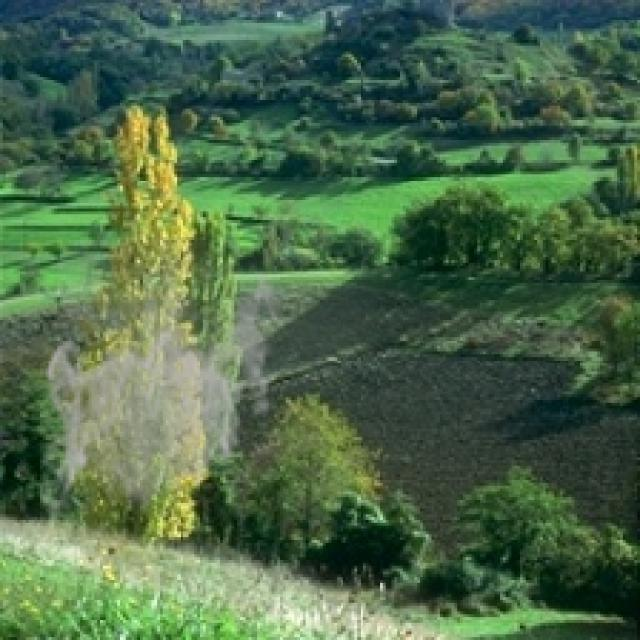Smoke: (40, 237, 286, 520)
